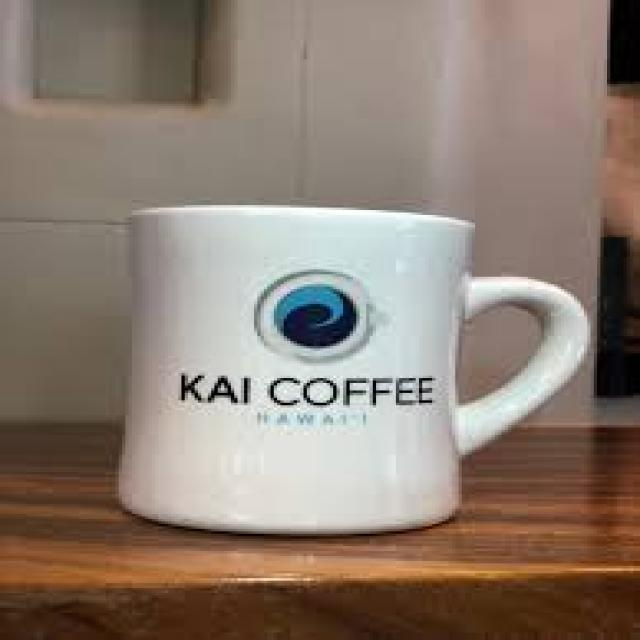taza: (116, 206, 592, 544)
